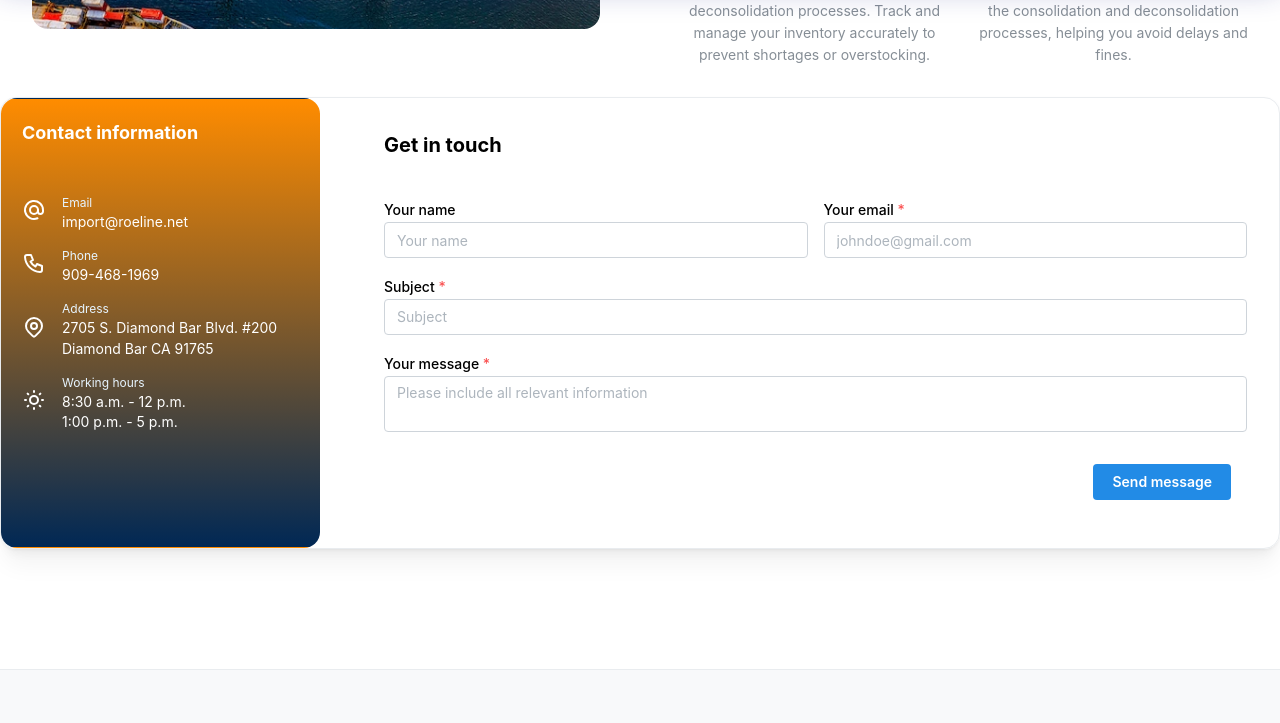
it: Form Testing › should display error messages for excessive text input
(page scrolled)
Type "CypressTestMessageWith51CharactersExcludingSpaces!!" into the field with id "name" at coordinates (596, 240), box [384,222,808,258]
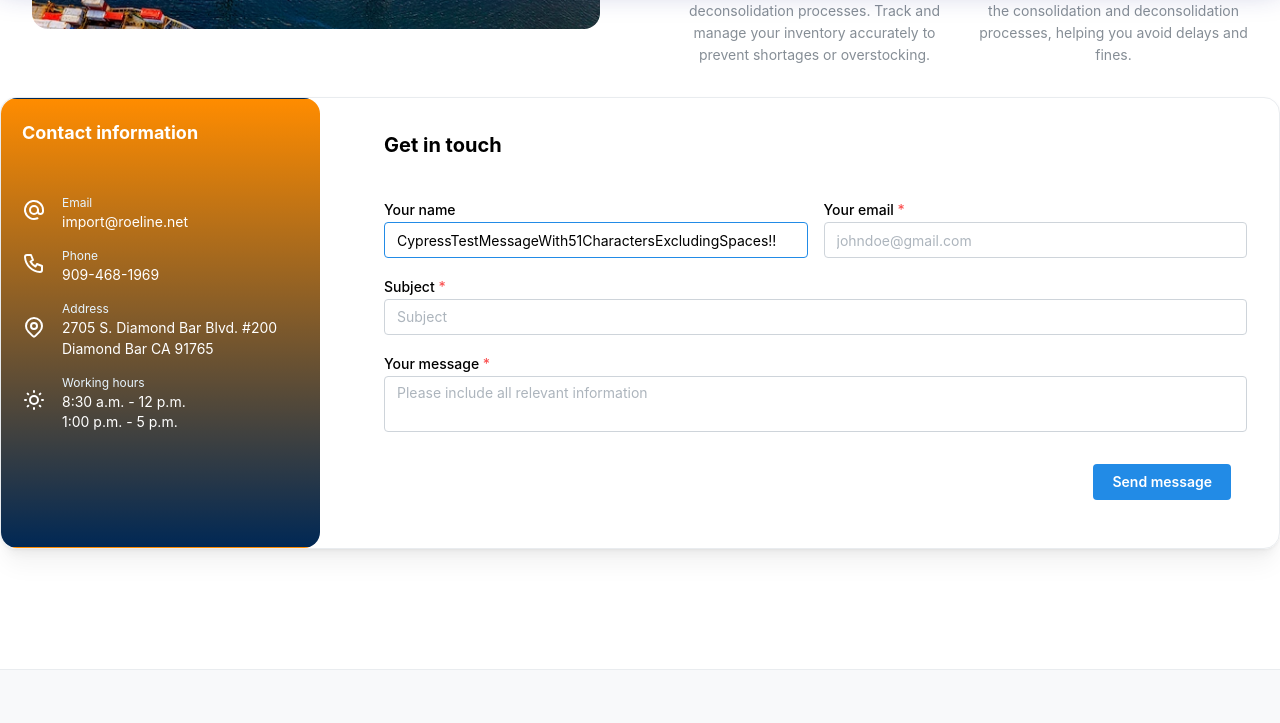
Leave the field with id "name", box [384,222,808,258]
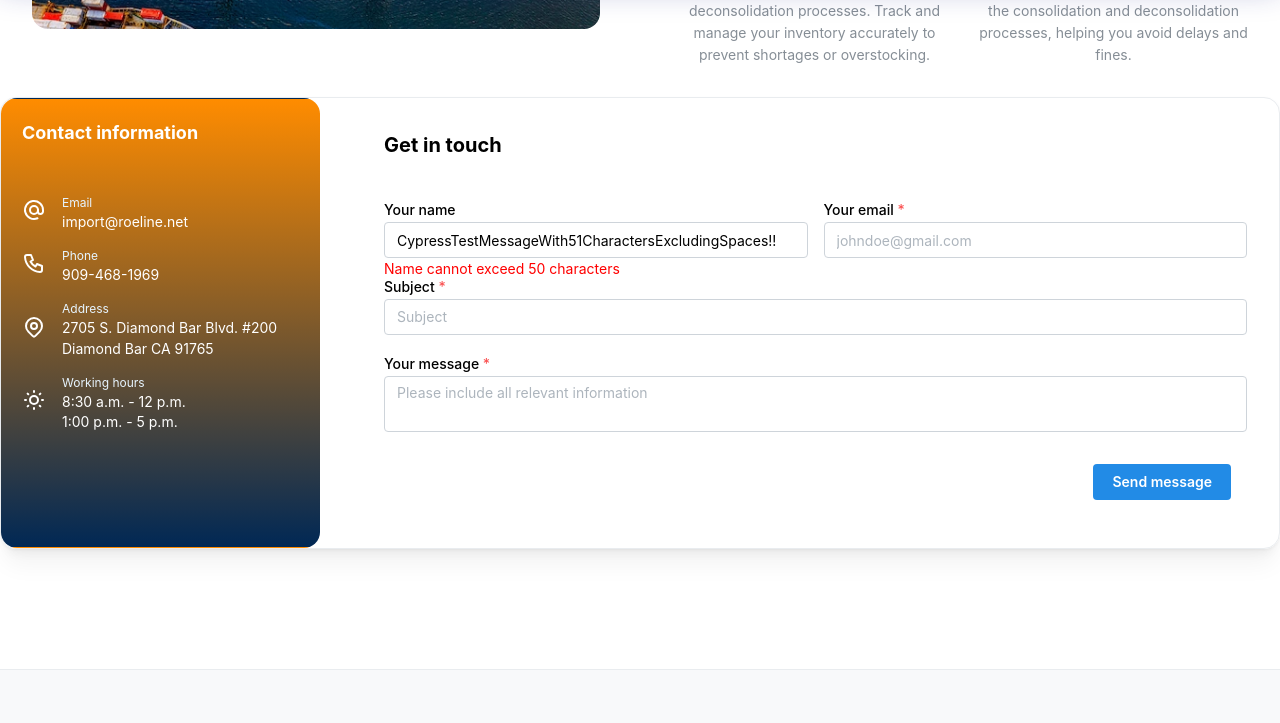
Check: the message with id "nameError" reads "Name cannot exceed 50 characters", box [384,258,620,280]
Type "CypressTestMessageWith51CharactersExcludingSpaces!!" into the field with id "subject" at coordinates (816, 317), box [384,299,1247,335]
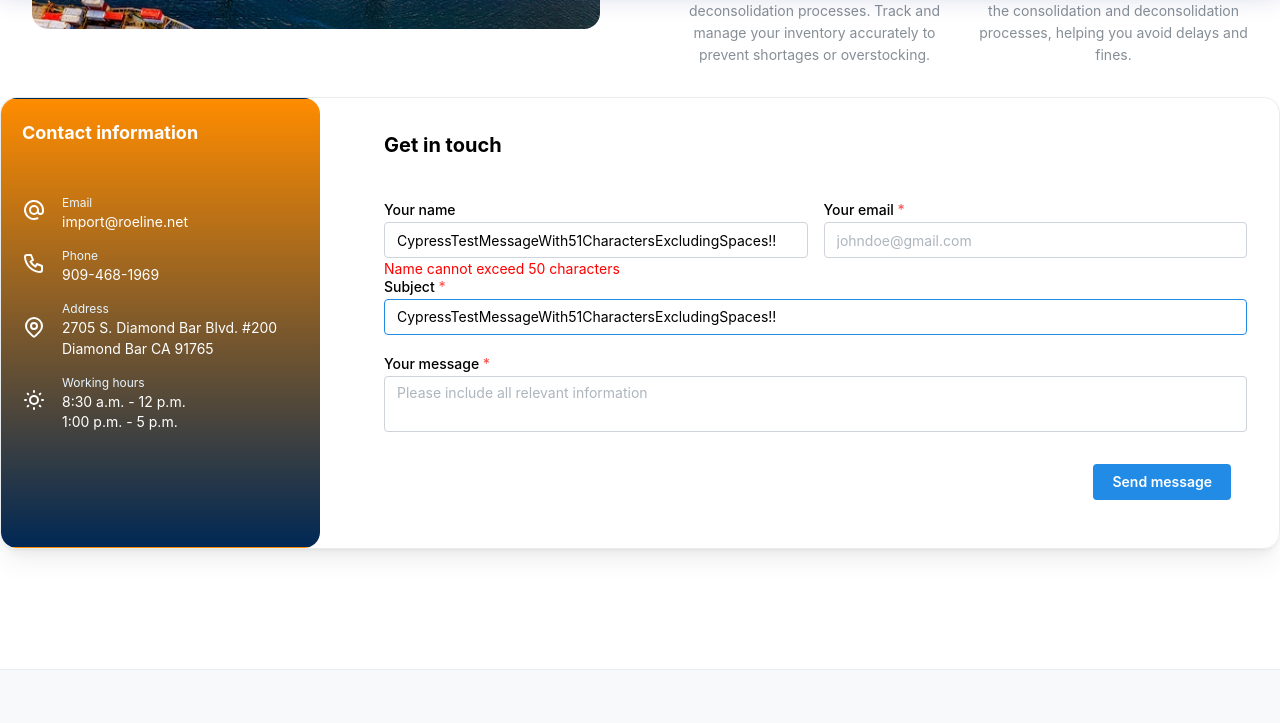
Leave the field with id "subject", box [384,299,1247,335]
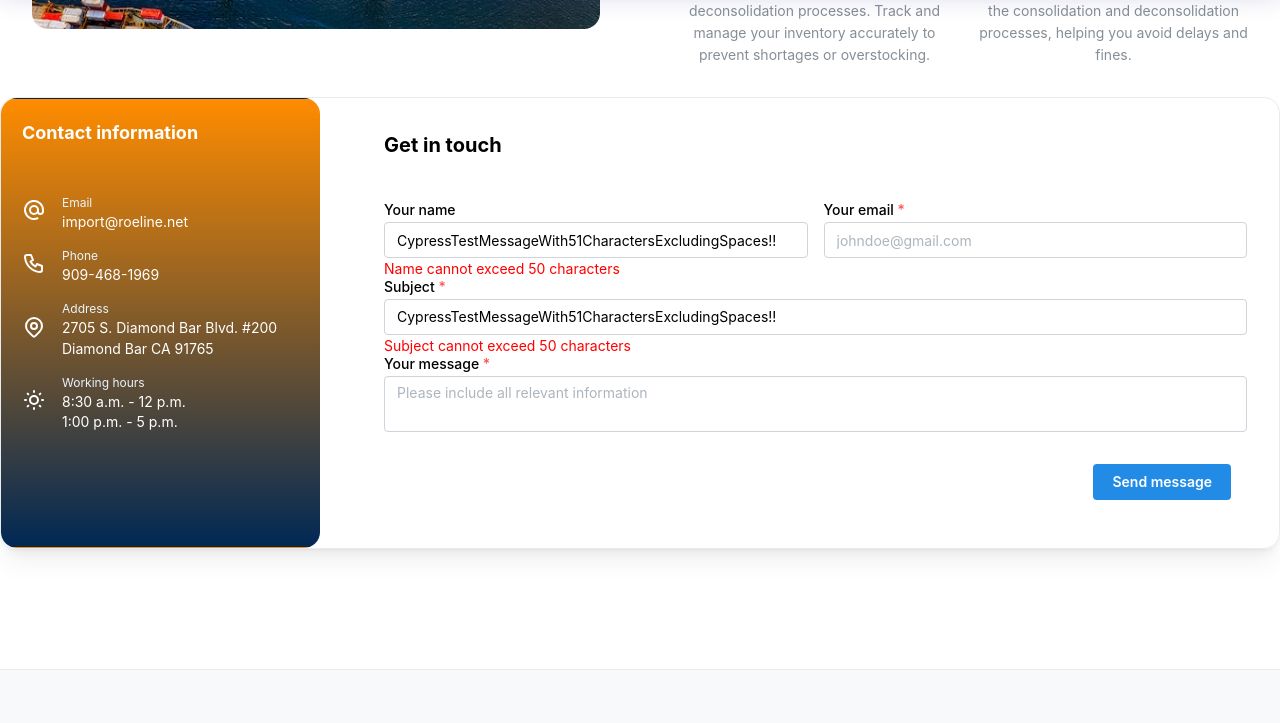
Check: the message with id "subjectError" reads "Subject cannot exceed 50 characters", box [384,335,631,357]
Type "Lorem ipsum dolor sit amet, consectetuer adipiscing elit. Aenean commodo ligula eget dolor. Aenean massa. Cum sociis natoque penatibus et magnis dis parturient montes, nascetur ridiculus mus. Donec qu" into the text box with id "message" at coordinates (816, 404), box [384,376,1247,432]
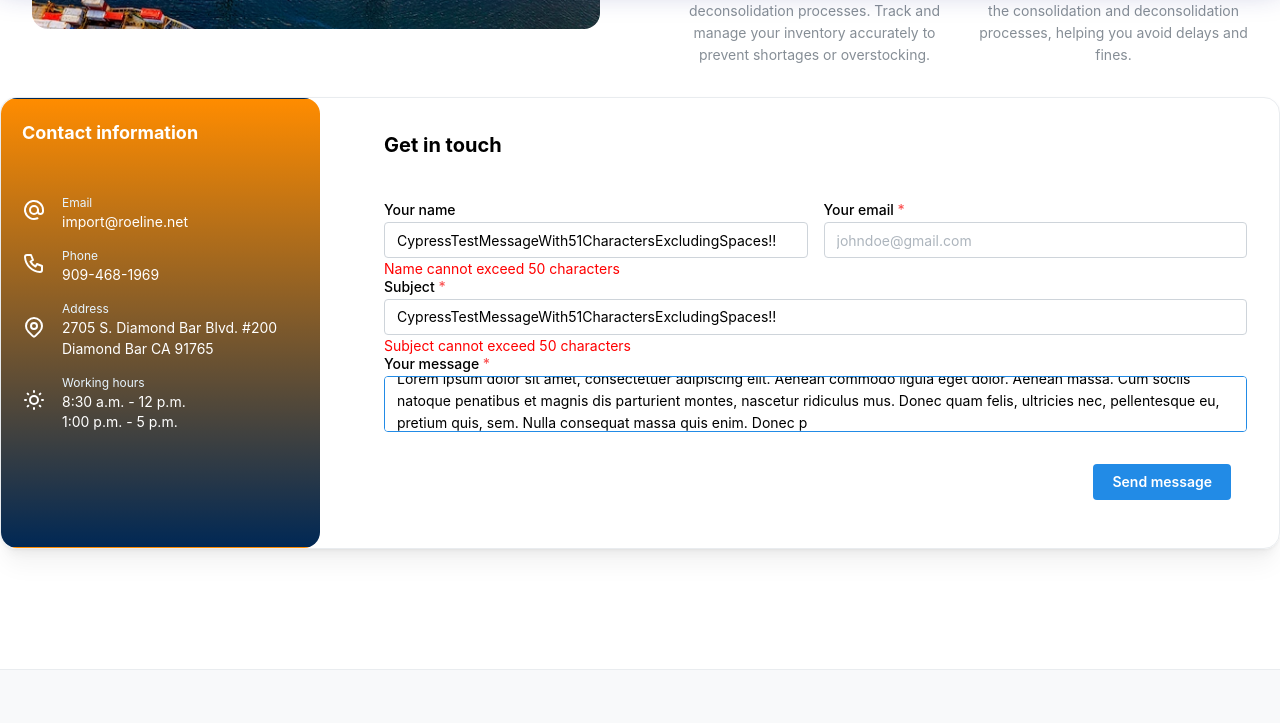
Leave the text box with id "message", box [384,376,1247,432]
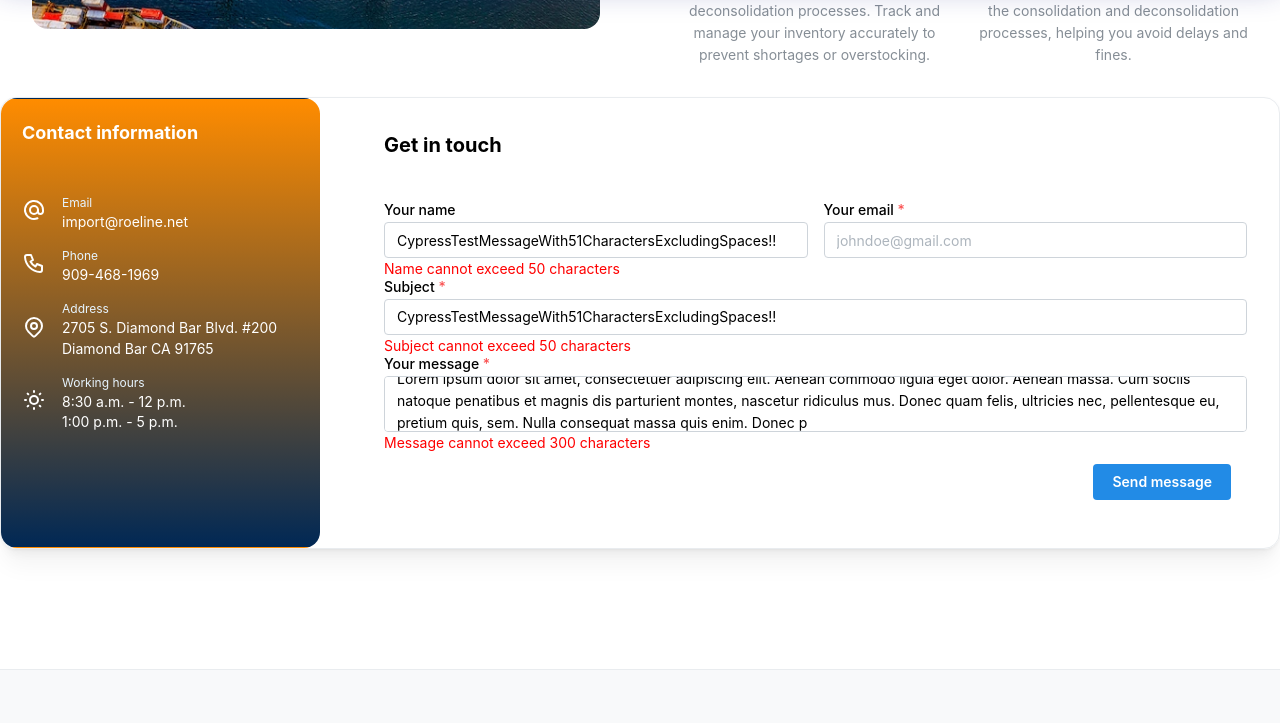
Check: the message with id "messageError" reads "Message cannot exceed 300 characters", box [384,432,650,454]
